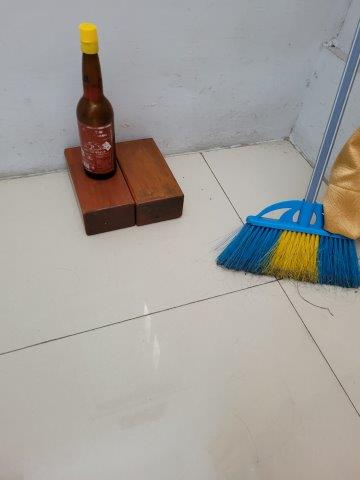botolkaca: (76, 23, 119, 181)
